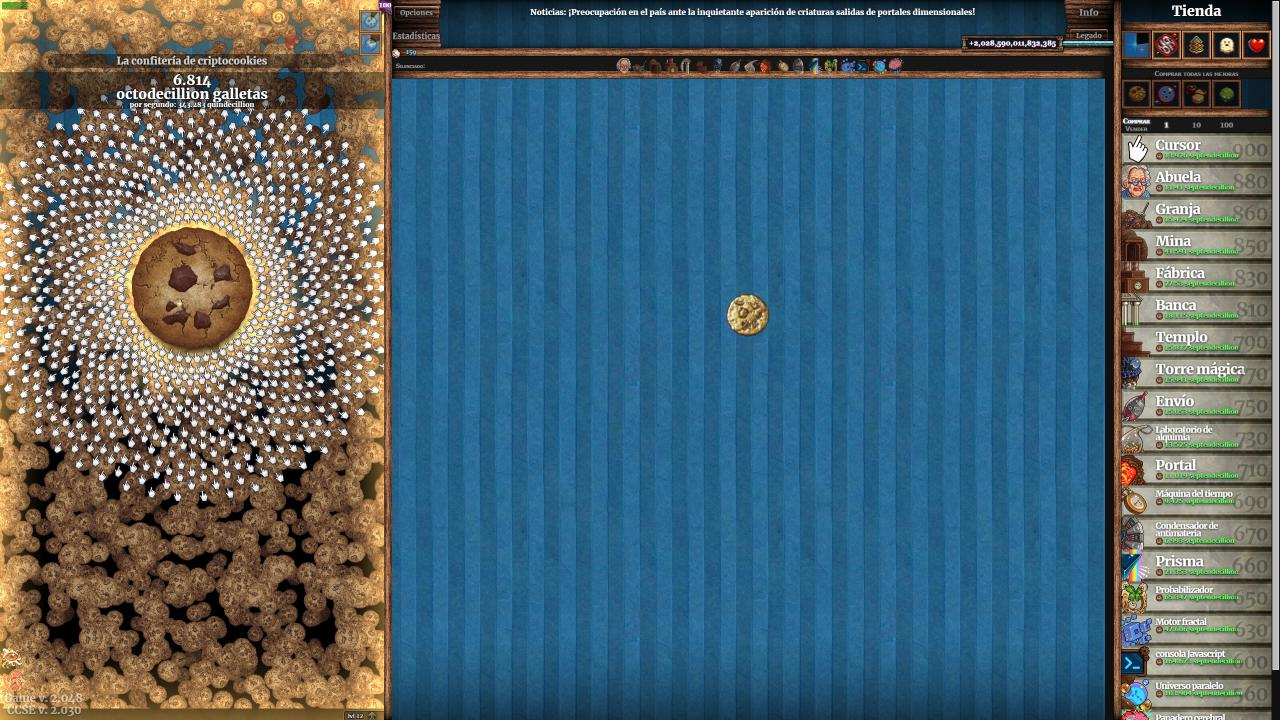GoldenCookie: (725, 292, 772, 338)
